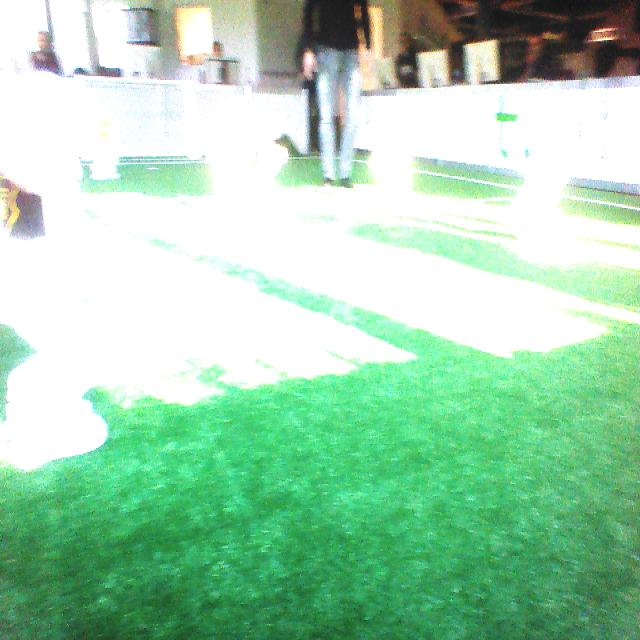goalpost: (182, 78, 199, 158)
